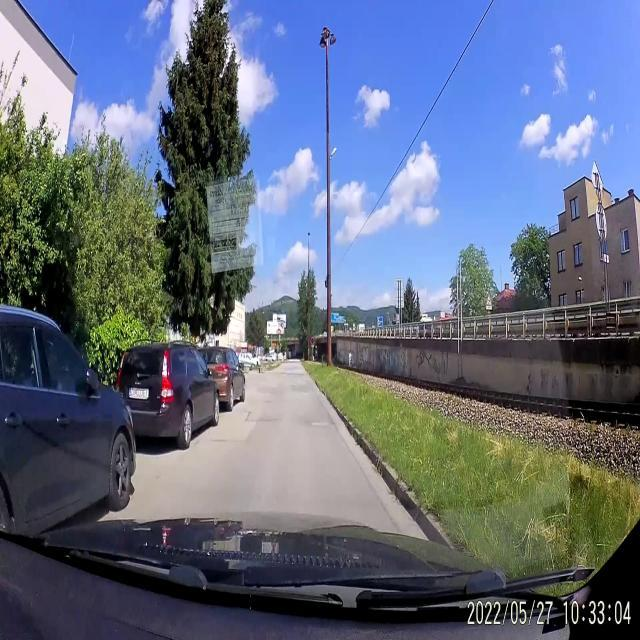Manhole: (310, 419, 332, 431)
